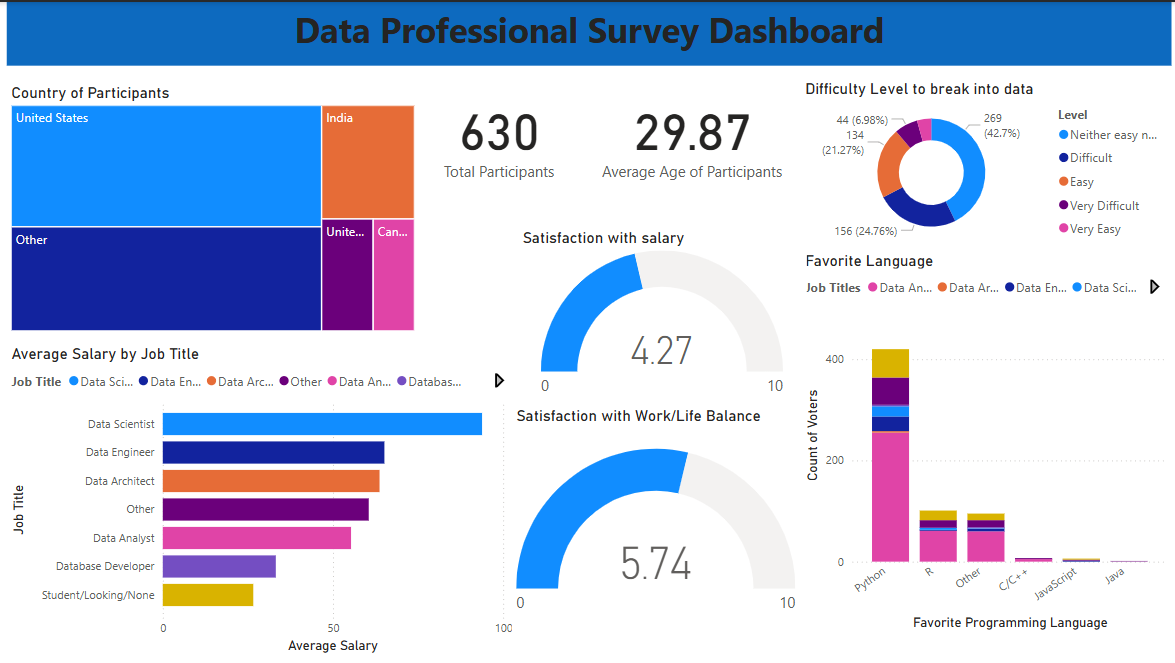

What the dashboard file says about the page in this screenshot:
{"tool":"powerbi","page":{"name":"Page 1","canvas":[1280,720],"ordinal":0},"visuals":[{"type":"textbox","box":[10,0,1258.8,68.8],"z":0},{"type":"card","fields":{"Values":["Avg(Data Professional Survey.Q10 - Current Age)"]},"box":[640,83.3,220,121.7],"z":2},{"type":"barChart","title":"Average Salary by Job Title","fields":{"Category":["Data Professional Survey.Q1 - Which Title Best Fits your Current Role?.1"],"Y":["Avg(Data Professional Survey.Average Salary)"],"Series":["Data Professional Survey.Q1 - Which Title Best Fits your Current Role?.1"]},"box":[10,370,551.7,338.3],"z":3},{"type":"columnChart","title":"Favorite Language","fields":{"Category":["Data Professional Survey.Q5 - Favorite Programming Language.1"],"Y":["CountNonNull(Data Professional Survey.Unique ID)"],"Series":["Data Professional Survey.Q1 - Which Title Best Fits your Current Role?.1"]},"box":[866.7,268.3,401.7,415],"z":4},{"type":"card","fields":{"Values":["Count(Data Professional Survey.Unique ID)"]},"box":[438.3,65,173.3,160],"z":5},{"type":"treemap","title":"Country of Participants","fields":{"Group":["Data Professional Survey.Q11 - Which Country do you live in?.1"],"Values":["CountNonNull(Data Professional Survey.Q11 - Which Country do you live in?.1)"]},"box":[10,88.3,385,271.7],"z":6},{"type":"gauge","title":"Happy with Work/Life Balance","fields":{"Y":["Avg(Data Professional Survey.Q6 - How Happy are you in your Current Position with the following? (Work/Life Balance))"],"MinValue":["Min(Data Professional Survey.Q6 - How Happy are you in your Current Position with the following? (Work/Life Balance))1"],"MaxValue":["Max(Data Professional Survey.Q6 - How Happy are you in your Current Position with the following? (Work/Life Balance))2"]},"box":[555,436.7,311.7,256.7],"z":7},{"type":"gauge","title":"Happy with salary","fields":{"Y":["Avg(Data Professional Survey.Q6 - How Happy are you in your Current Position with the following? (Salary))"],"MinValue":["Min(Data Professional Survey.Q6 - How Happy are you in your Current Position with the following? (Salary))"],"MaxValue":["Max(Data Professional Survey.Q6 - How Happy are you in your Current Position with the following? (Salary))"]},"box":[561.7,245,311.7,191.7],"z":8},{"type":"donutChart","title":"Difficulty Level","fields":{"Category":["Data Professional Survey.Q7 - How difficult was it for you to break into Data?"],"Series":["Data Professional Survey.Q7 - How difficult was it for you to break into Data?"],"Y":["CountNonNull(Data Professional Survey.Q7 - How difficult was it for you to break into Data?)"]},"box":[886.7,86.7,381.7,181.7],"z":9}]}

Visuals, with their boxes in screenshot pixels (x1, y1, x2, y2), scaled from the page's 1280x720 canvas onto the 1175x663 screenshot:
textbox: bbox=(9, 0, 1165, 63)
card - Avg(Data Professional Survey.Q10 - Current Age): bbox=(588, 77, 789, 189)
"Average Salary by Job Title" barChart: bbox=(9, 341, 516, 652)
"Favorite Language" columnChart: bbox=(796, 247, 1164, 629)
card - Count(Data Professional Survey.Unique ID): bbox=(402, 60, 561, 207)
"Country of Participants" treemap: bbox=(9, 81, 363, 332)
"Happy with Work/Life Balance" gauge: bbox=(509, 402, 796, 639)
"Happy with salary" gauge: bbox=(516, 226, 802, 402)
"Difficulty Level" donutChart: bbox=(814, 80, 1164, 247)
